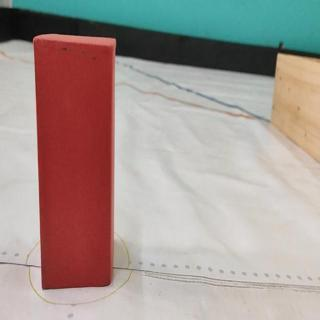redbox: (31, 32, 117, 291)
